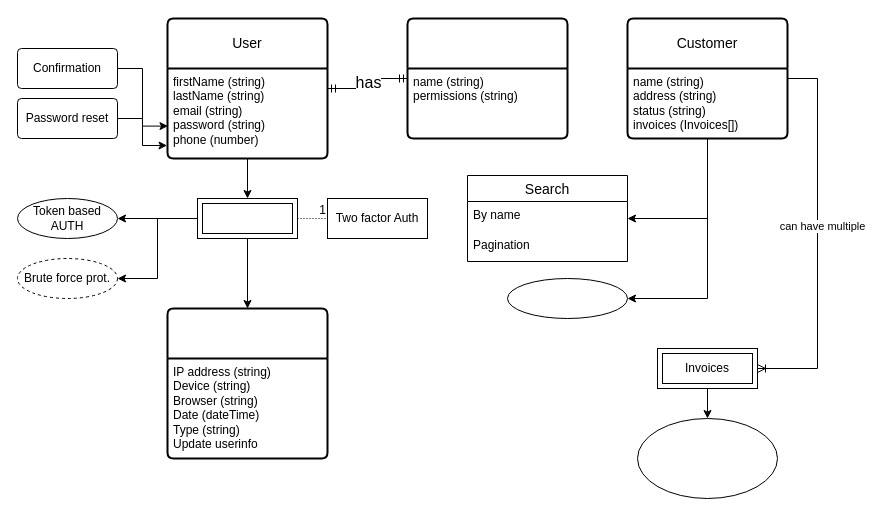
This 882x516 diagram has some shape labels left out. Each missing label, with the box of its shape:
Create, print (email, spreadsheet, pdf), add: (636, 418, 778, 498)
Login: (196, 198, 298, 238)
Print spreadsheet: (506, 278, 628, 318)
Role: (406, 17, 568, 139)
Track User activity: (166, 307, 328, 459)
